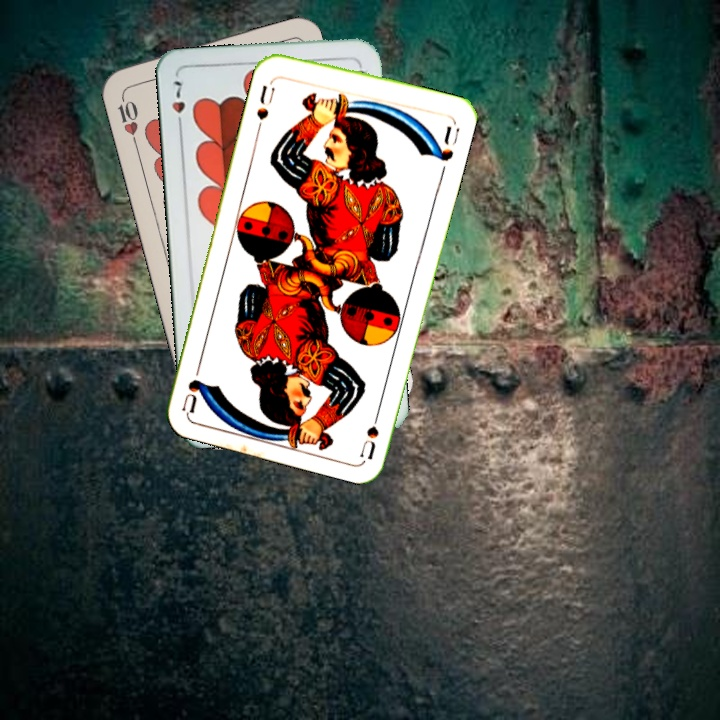H10: (113, 88, 141, 147)
H7: (167, 76, 188, 133)
SU: (356, 401, 384, 460), (252, 73, 281, 123)
